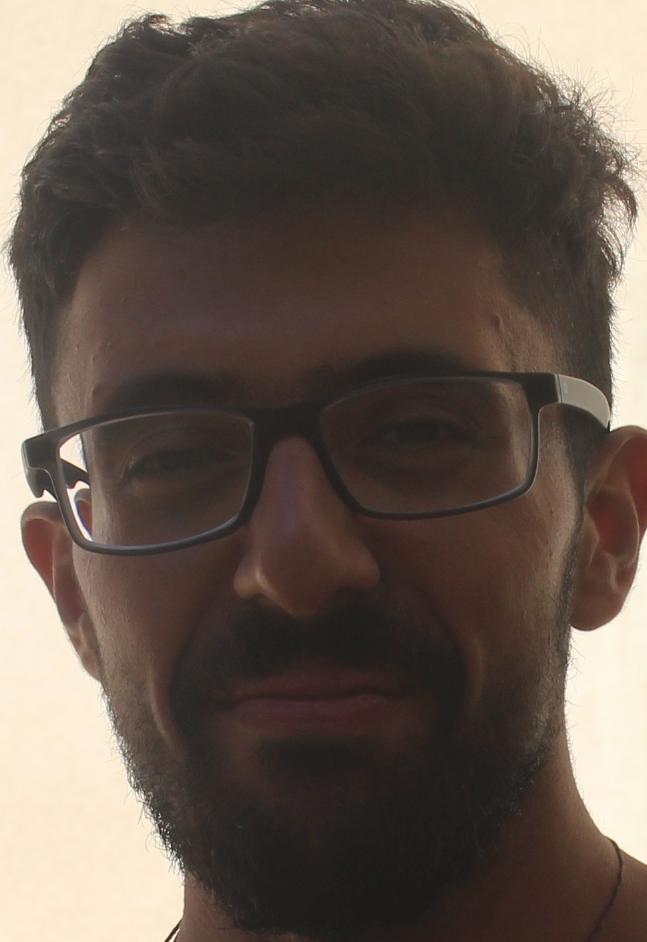face: (16, 24, 641, 917)
